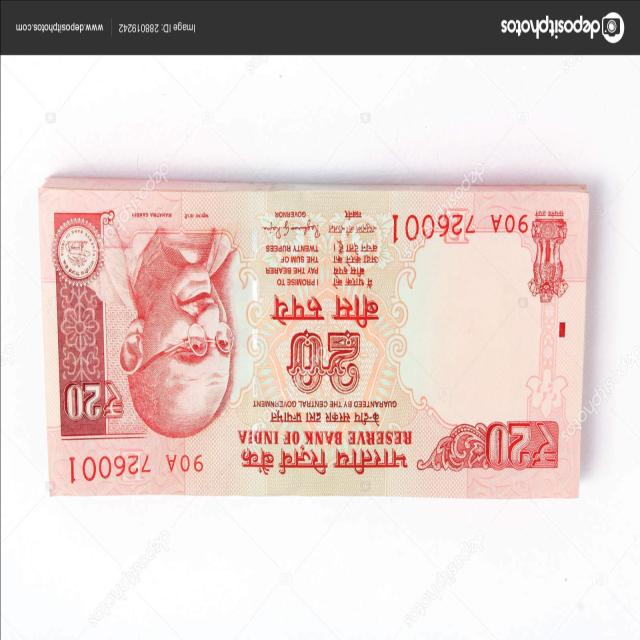20IndianRupees: (39, 191, 583, 498)
